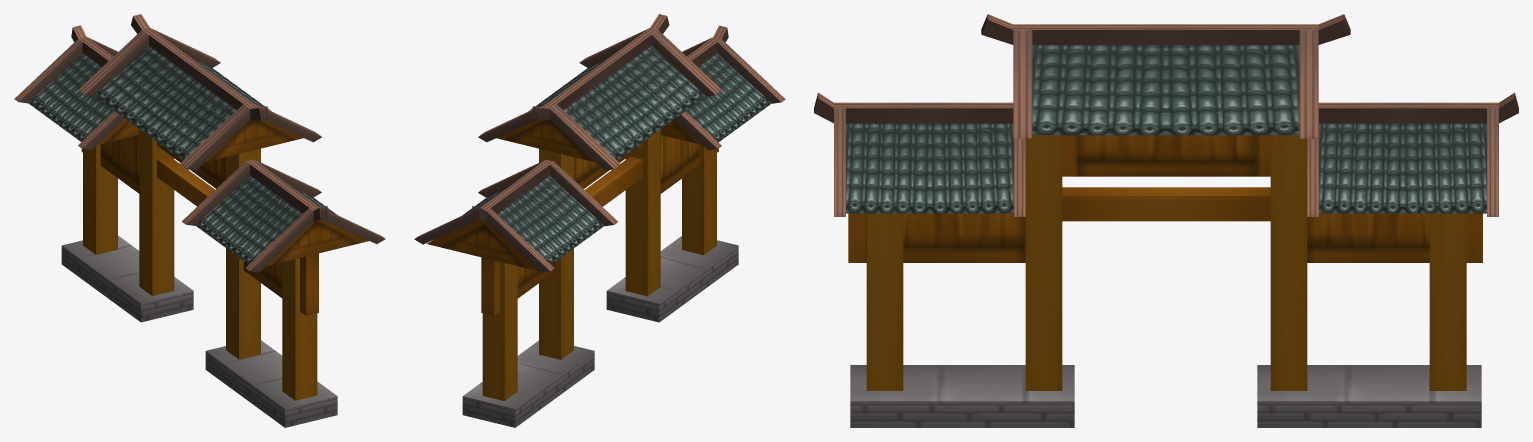
File: zhucheng01_pailoui.FBX
3 views of the same model, side by side, from view 1: azimuth 30°, elevation 25°; view 2: azimuth 150°, elevation 25°; view 3: azimuth 270°, elevation 25° (orthographic). The views are drawn at different scales.
Visible parts, largest first — view 1: Box37; view 2: Box37; view 3: Box37.
Part boxes in pixels (left/top/right/bottom): Box37: left=14, top=14, right=385, bottom=427; Box37: left=414, top=14, right=785, bottom=427; Box37: left=814, top=14, right=1518, bottom=427.
Size of the model in its own units: 4.5 by 8.78 by 14.25.
